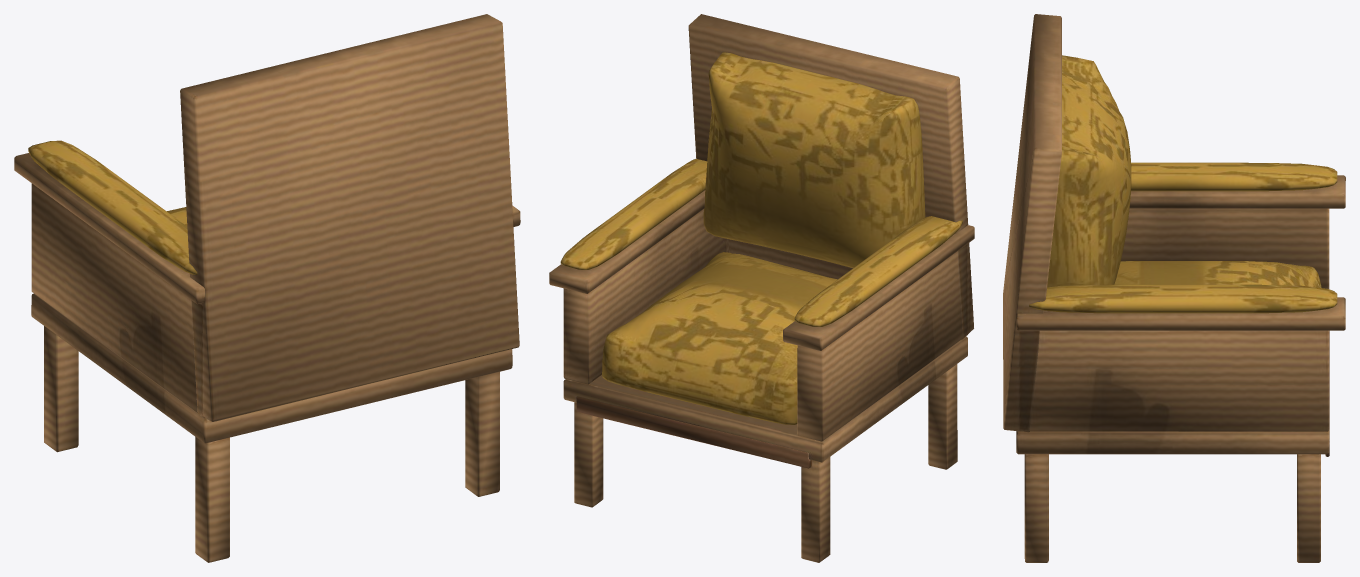
Rendered from armchair_mustard.glb.
3 renders of one model, left to right at view 1: azimuth 30°, elevation 25°; view 2: azimuth 150°, elevation 25°; view 3: azimuth 270°, elevation 25°, orthographic. The views are drawn at different scales.
Parts seen in each view (by area): view 1: prop_armchair_mustard_wood, prop_armchair_mustard_felt; view 2: prop_armchair_mustard_felt, prop_armchair_mustard_wood; view 3: prop_armchair_mustard_wood, prop_armchair_mustard_felt.
Boxes of the visible parts, left/top/right/bottom form: prop_armchair_mustard_wood: left=14, top=14, right=520, bottom=562; prop_armchair_mustard_felt: left=28, top=140, right=197, bottom=274; prop_armchair_mustard_felt: left=560, top=52, right=962, bottom=424; prop_armchair_mustard_wood: left=549, top=14, right=974, bottom=562; prop_armchair_mustard_wood: left=1003, top=14, right=1345, bottom=562; prop_armchair_mustard_felt: left=1029, top=55, right=1337, bottom=313.
Size of the model in its own units: 1.64 by 2.24 by 1.66.
Materials: 2 (2 with a texture image).
